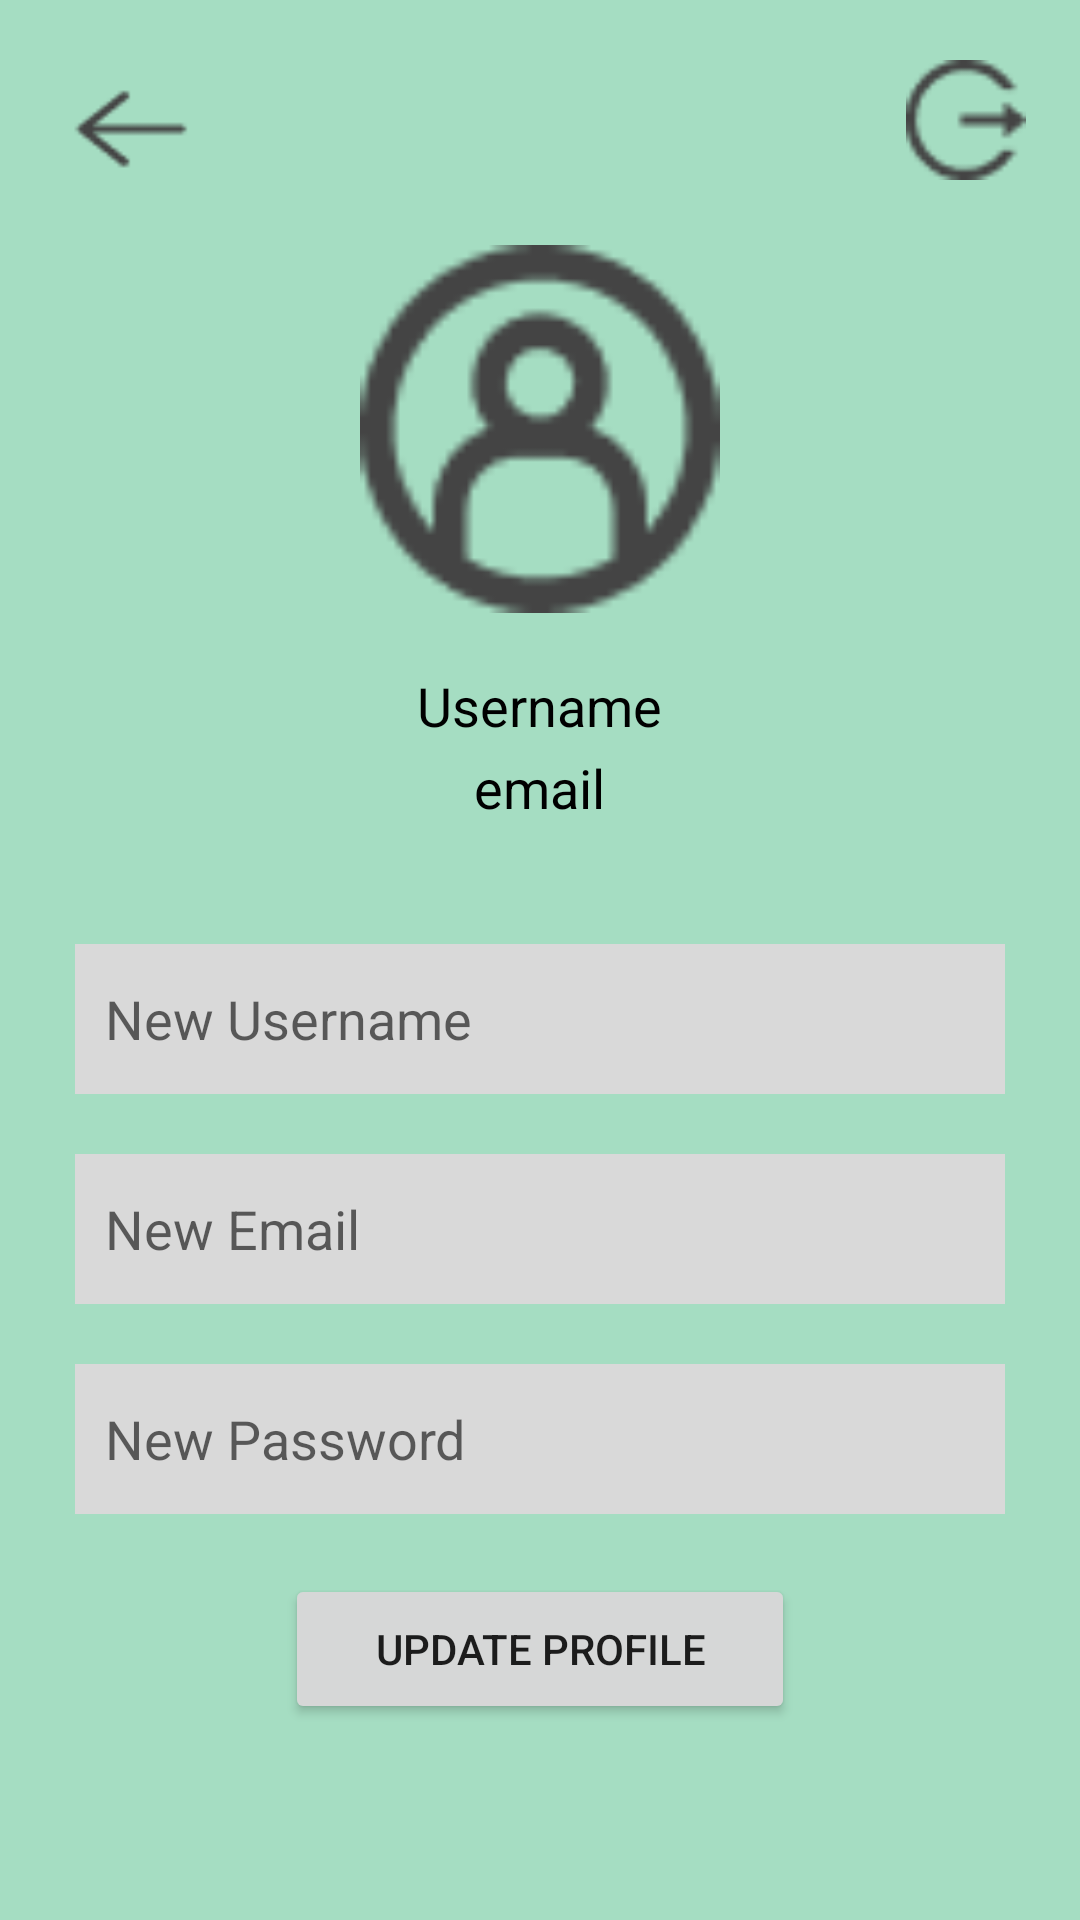

Icon click points for this 1080x1920 phone screenshot, format [x,y]:
back: [131,129]
